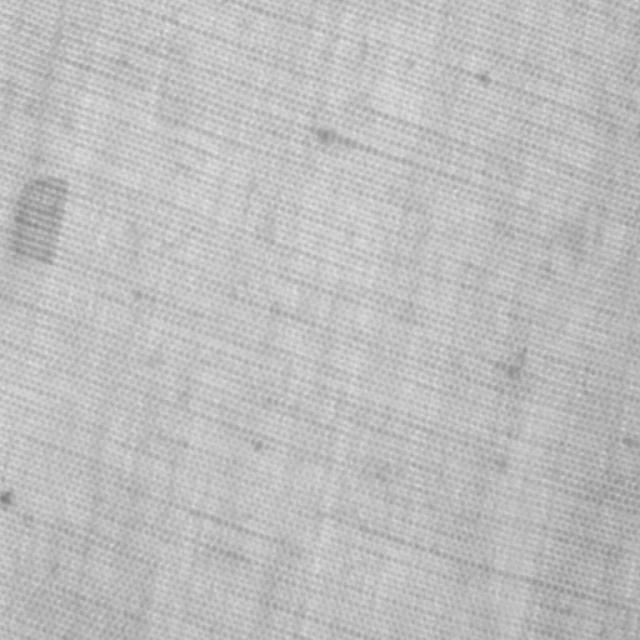oil spot: (7, 168, 69, 266)
